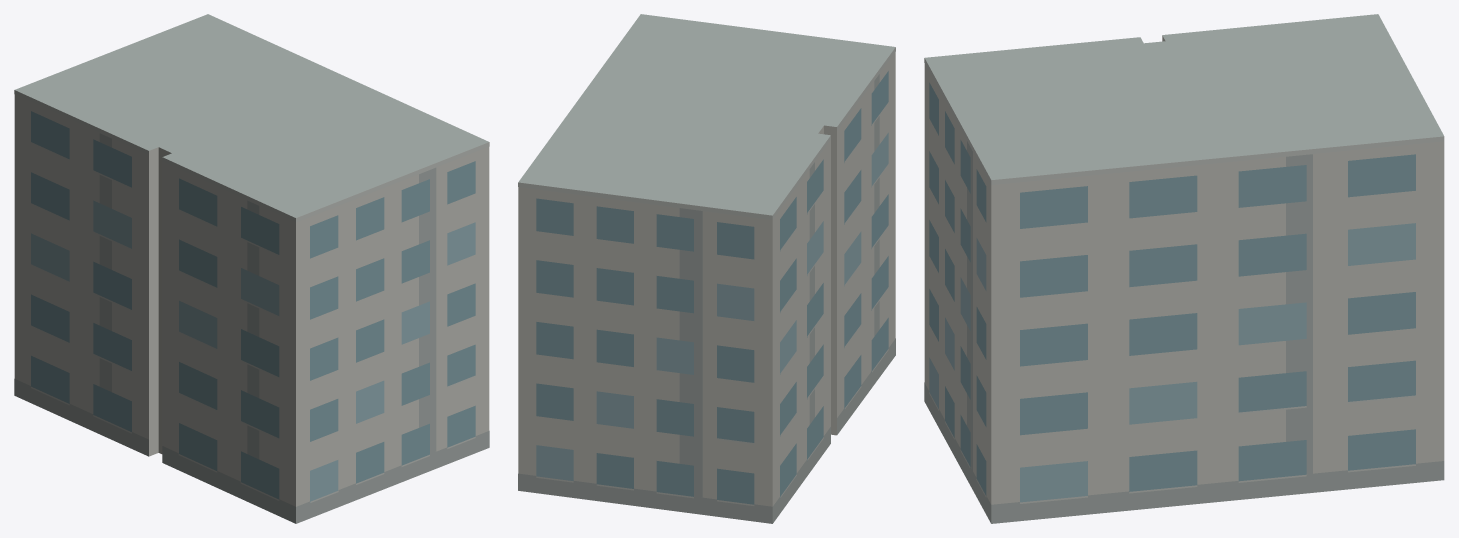
File: survey-upis-32809821.glb
The picture shows the model from 3 angles, left to right: view 1: azimuth 30°, elevation 25°; view 2: azimuth 150°, elevation 25°; view 3: azimuth 270°, elevation 25°; orthographic projection. The views are drawn at different scales.
Parts seen in each view (by area): view 1: survey-upis-32809821.tmp; view 2: survey-upis-32809821.tmp; view 3: survey-upis-32809821.tmp.
Boxes of the visible parts, x1,y1,x2,y2 form: survey-upis-32809821.tmp: (14, 14, 489, 523); survey-upis-32809821.tmp: (518, 14, 895, 523); survey-upis-32809821.tmp: (924, 14, 1444, 523).
Size of the model in its own units: 17.12 by 16.5 by 22.63.
